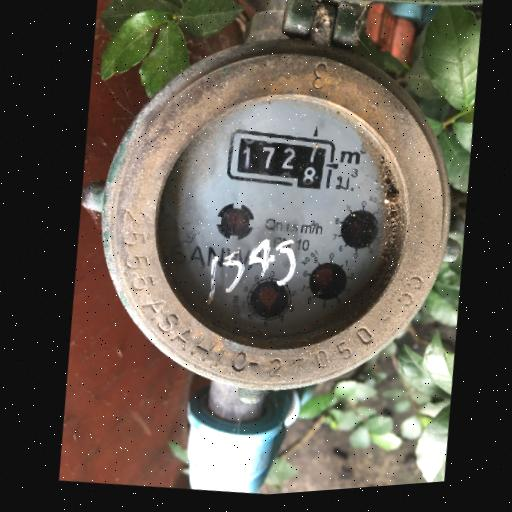1: (234, 136, 261, 175)
2: (275, 141, 304, 181)
7: (294, 143, 329, 191), (253, 138, 284, 178)
border_water_meter_number: (221, 120, 340, 198)
